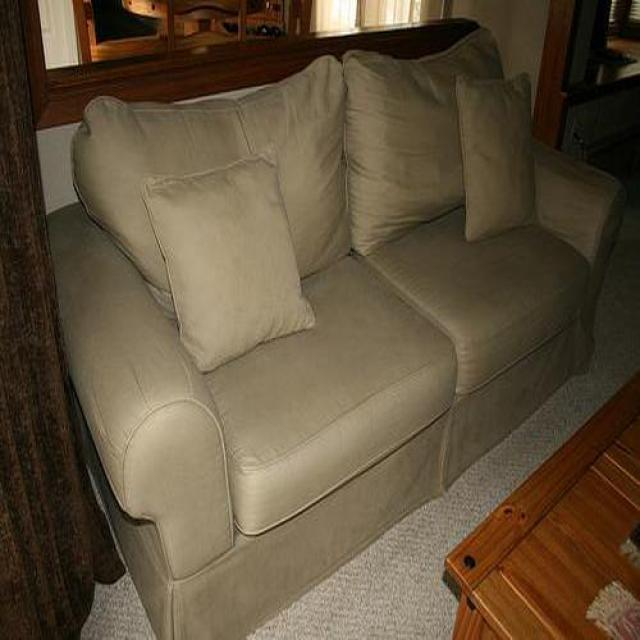sofa: (46, 20, 627, 640)
